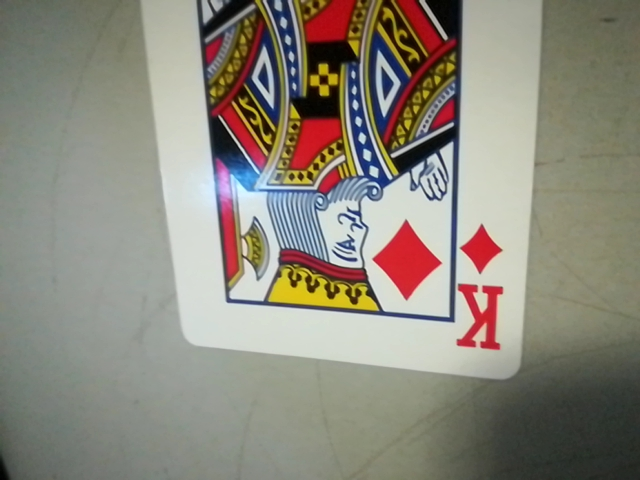fk k: (448, 222, 515, 360)
